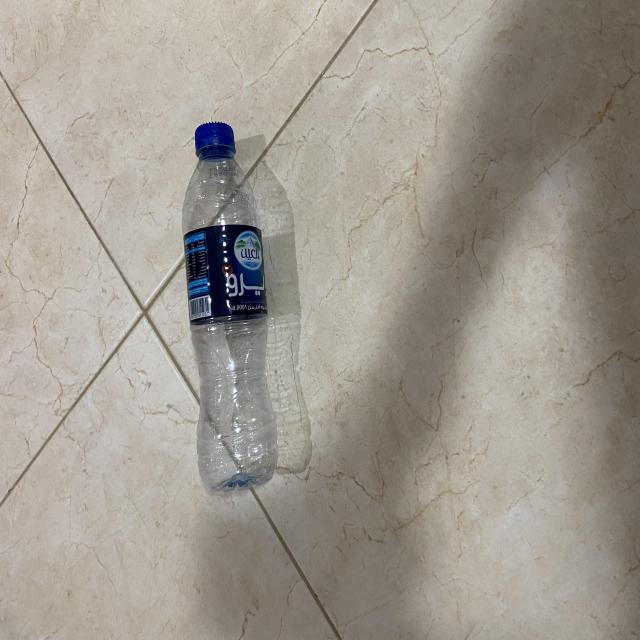plastic: (180, 119, 280, 493)
